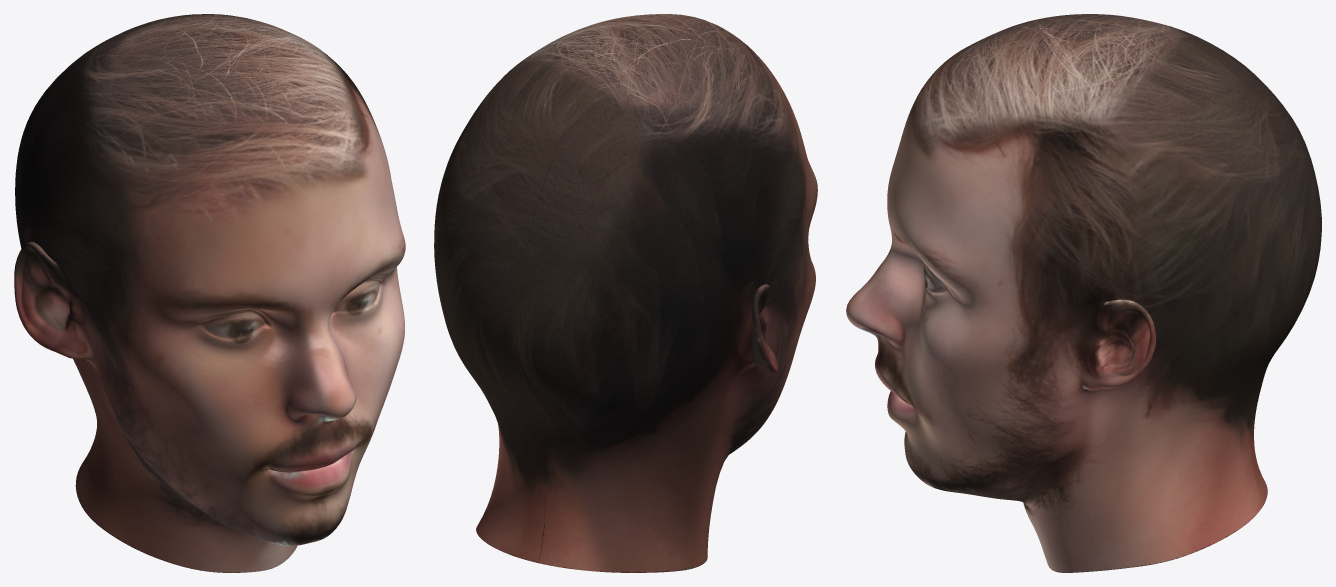
File: love.glb
The picture shows the model from 3 angles, left to right: view 1: azimuth 30°, elevation 25°; view 2: azimuth 150°, elevation 25°; view 3: azimuth 270°, elevation 25°; orthographic projection.
Visible parts, largest first — view 1: FaceBuilderHead; view 2: FaceBuilderHead; view 3: FaceBuilderHead.
Boxes of the visible parts, box(x1,y1,x2,y2) form: FaceBuilderHead: box(14, 14, 405, 572); FaceBuilderHead: box(434, 14, 817, 572); FaceBuilderHead: box(846, 14, 1321, 572).
Size of the model in its own units: 1.47 by 2.21 by 1.84.
Materials: 1 (1 with a texture image).
